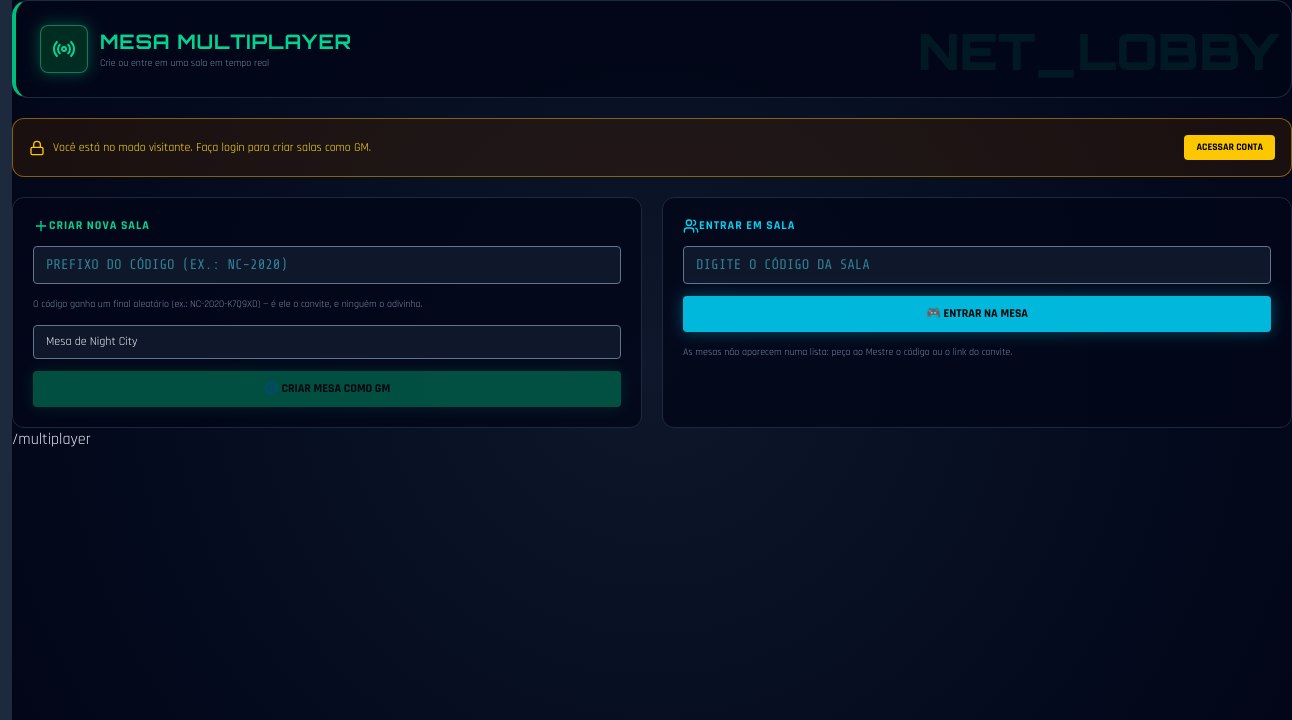
it: H.03 — a mesa ativa pelo lobby mora em /room/CÓDIGO › entrar pelo código deixa a URL em /room/CÓDIGO, com um join só
Type "NC-2020-K7Q9XD" into the field with placeholder "Digite o código da sala" at (977, 265), box left=683, top=246, right=1271, bottom=284
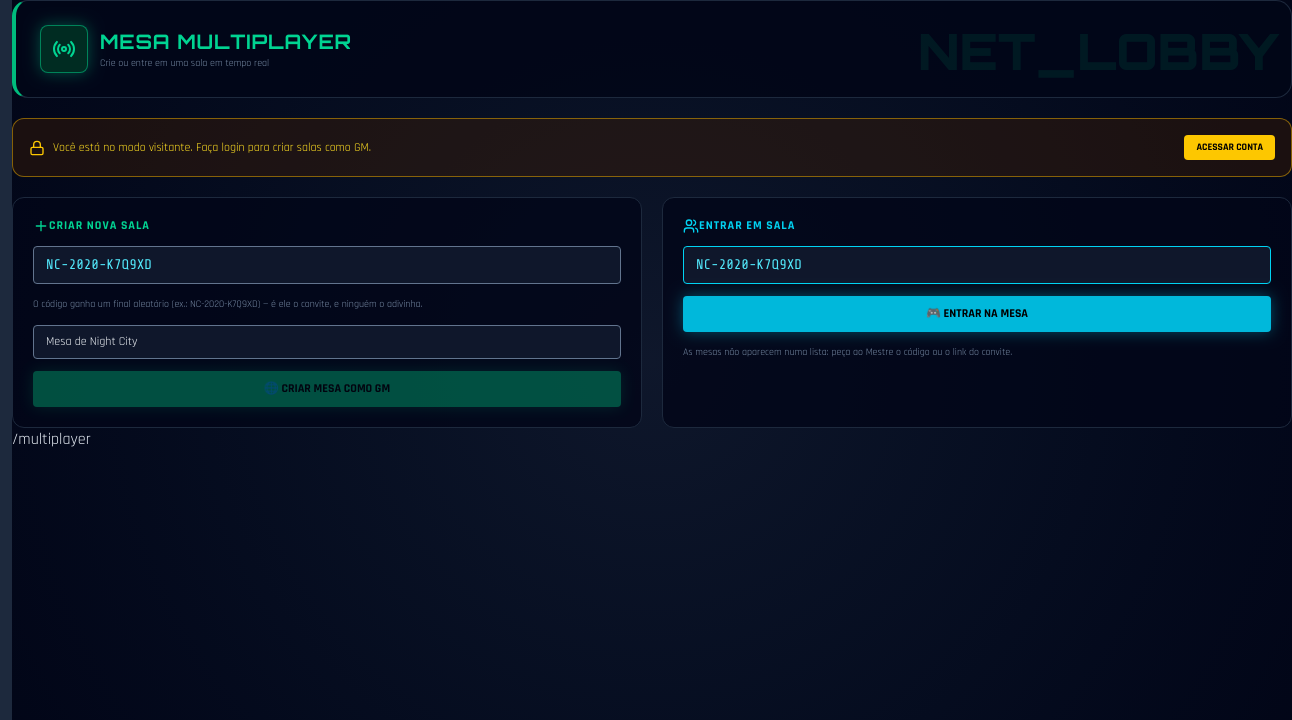
Click the button "🎮 Entrar na Mesa" at (977, 314), box left=683, top=296, right=1271, bottom=332
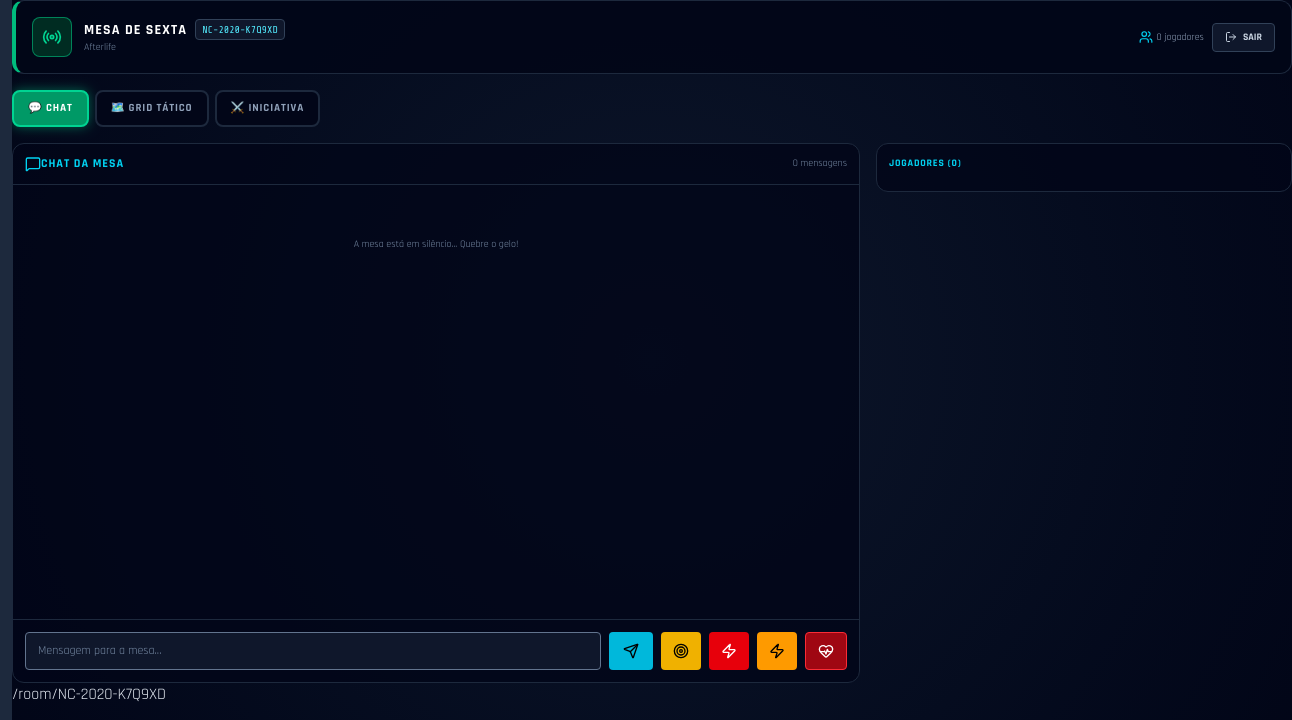
Result: the field with placeholder "Mensagem para a mesa..." is shown at left=25, top=632, right=601, bottom=670
